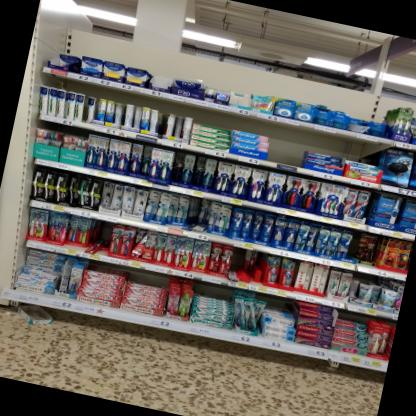empty_space: (266, 123, 310, 167), (95, 222, 115, 252)
